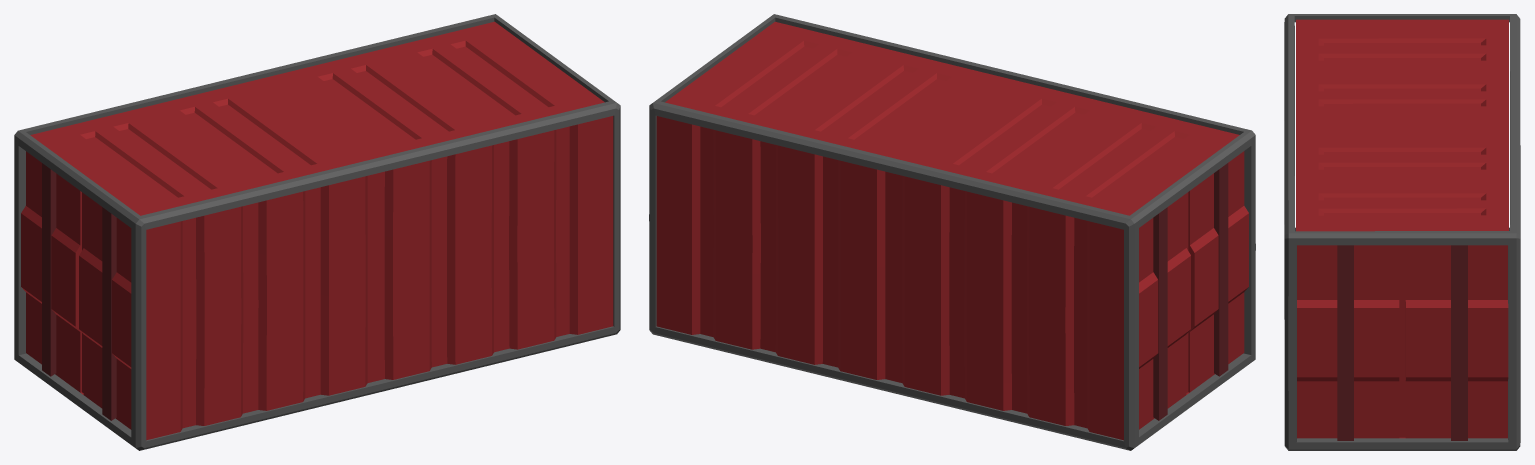
File: container.glb
3 views of the same model, side by side, from view 1: azimuth 30°, elevation 25°; view 2: azimuth 150°, elevation 25°; view 3: azimuth 270°, elevation 25° (orthographic). The views are drawn at different scales.
Visible parts, largest first — view 1: Container_Red; view 2: Container_Red; view 3: Container_Red.
Part boxes in pixels (x1,y1,x2,y2): Container_Red: (14,14,620,450); Container_Red: (649,14,1255,450); Container_Red: (1284,14,1520,450).
Bounding box in the file's own units: 5.71 × 2.6 × 2.56.
1 material, 1 textured.
